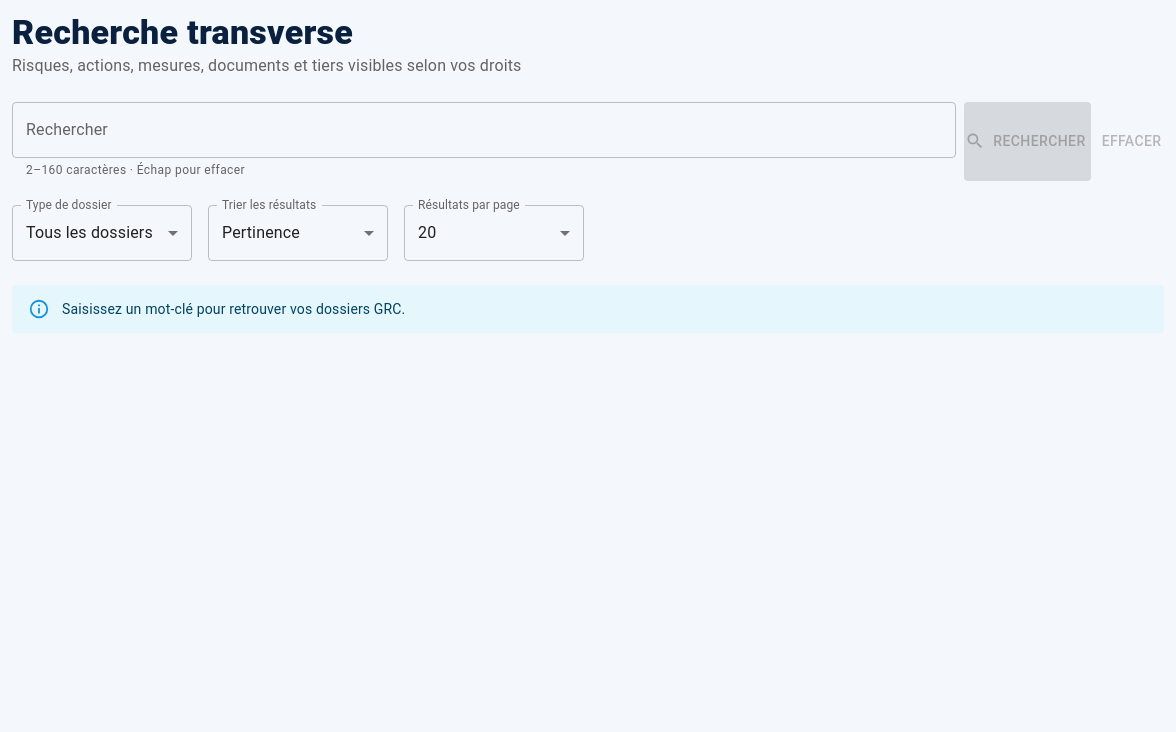
Test: GRC search › does not request an empty query and supports Escape to clear
Check: the dropdown "Tous les dossiers" is shown, box [26, 223, 153, 242]
Check: the text "Saisissez un mot-clé pour retrouver vos dossiers GRC." is shown, box [62, 301, 405, 317]
Step 1. Type "cloud" into the field labelled "Rechercher" → x=484, y=130, box [12, 102, 956, 158]
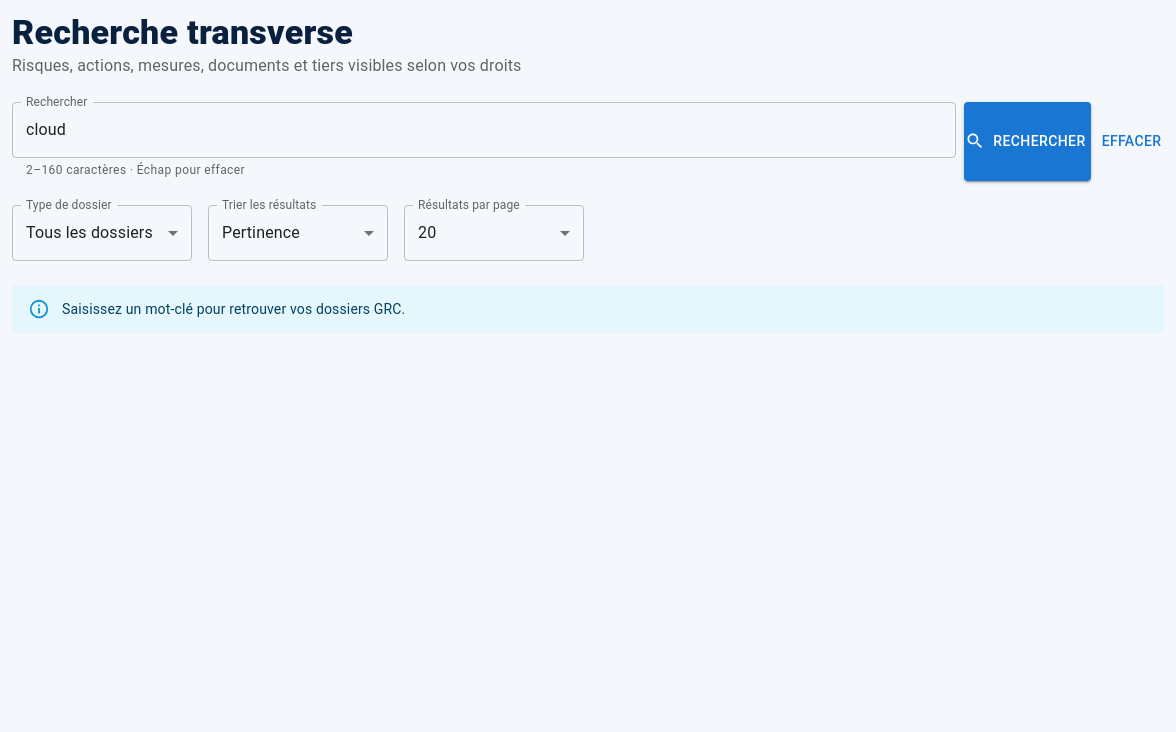
Step 2. Press Escape in the field labelled "Rechercher", box [12, 102, 956, 158]
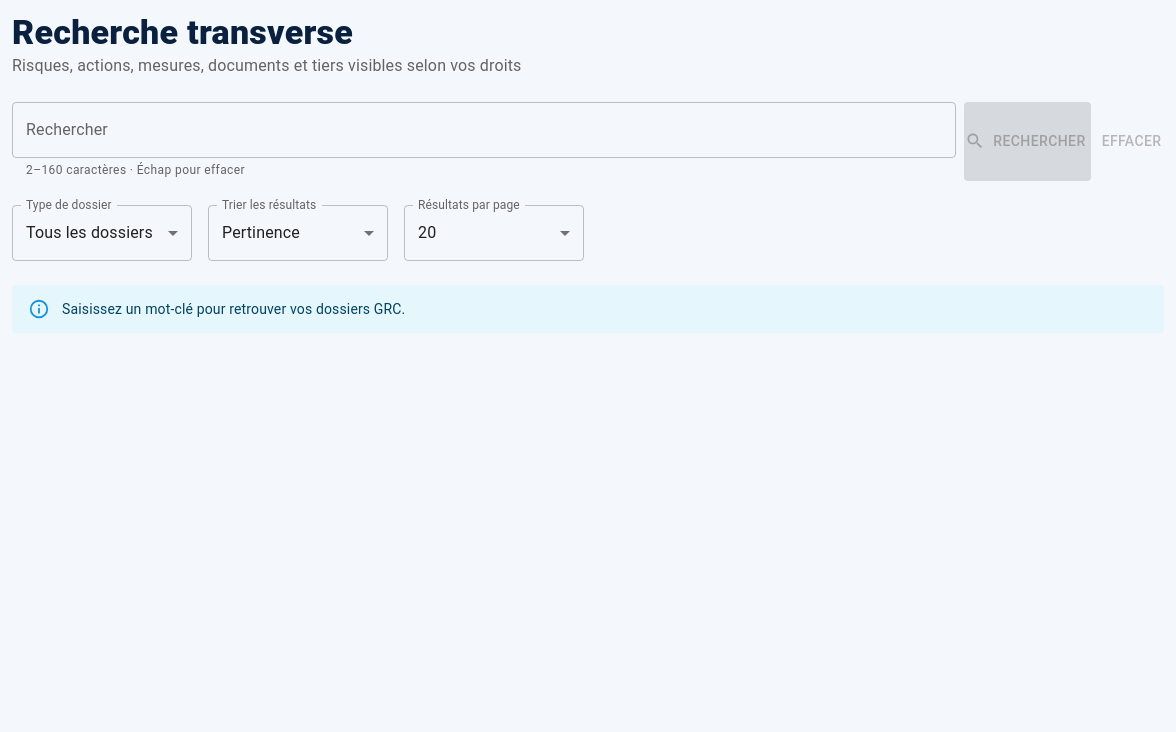
Check: the field labelled "Rechercher" is empty, box [12, 102, 956, 158]
Step 3. Press the mouse on the dropdown named "Type de dossier" → x=89, y=233, box [26, 223, 153, 242]
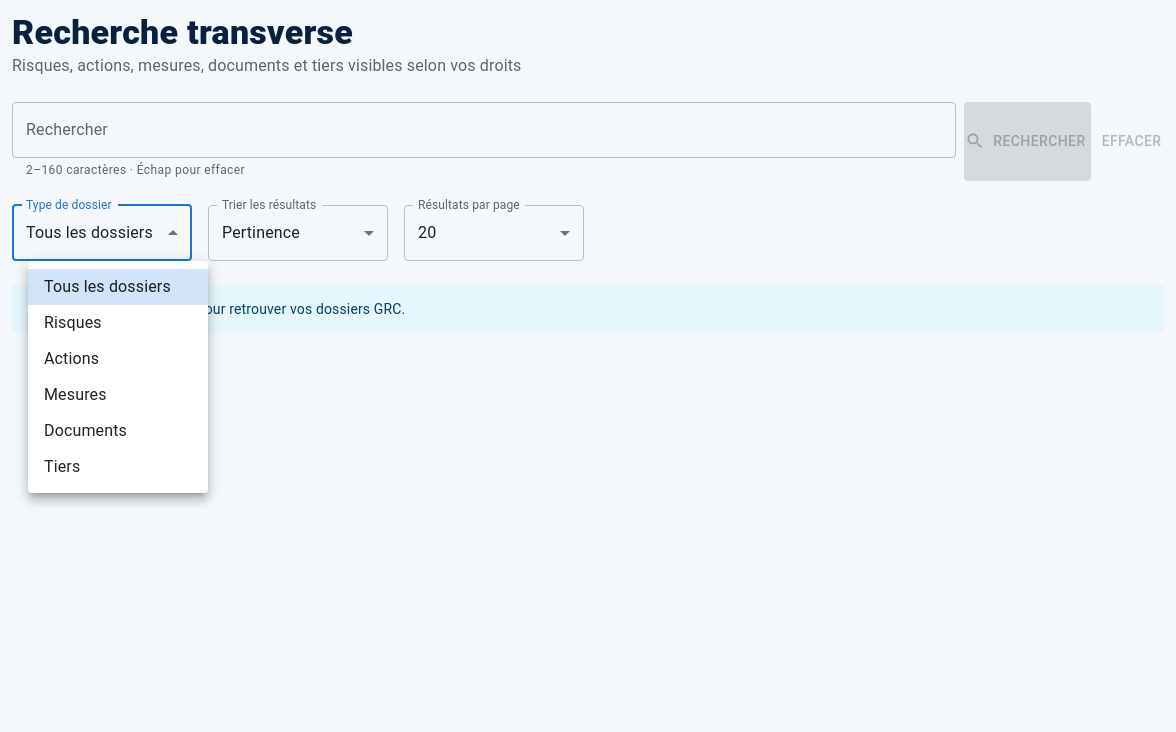
Step 4. Click the option "Risques" → x=73, y=322, box [44, 313, 102, 332]
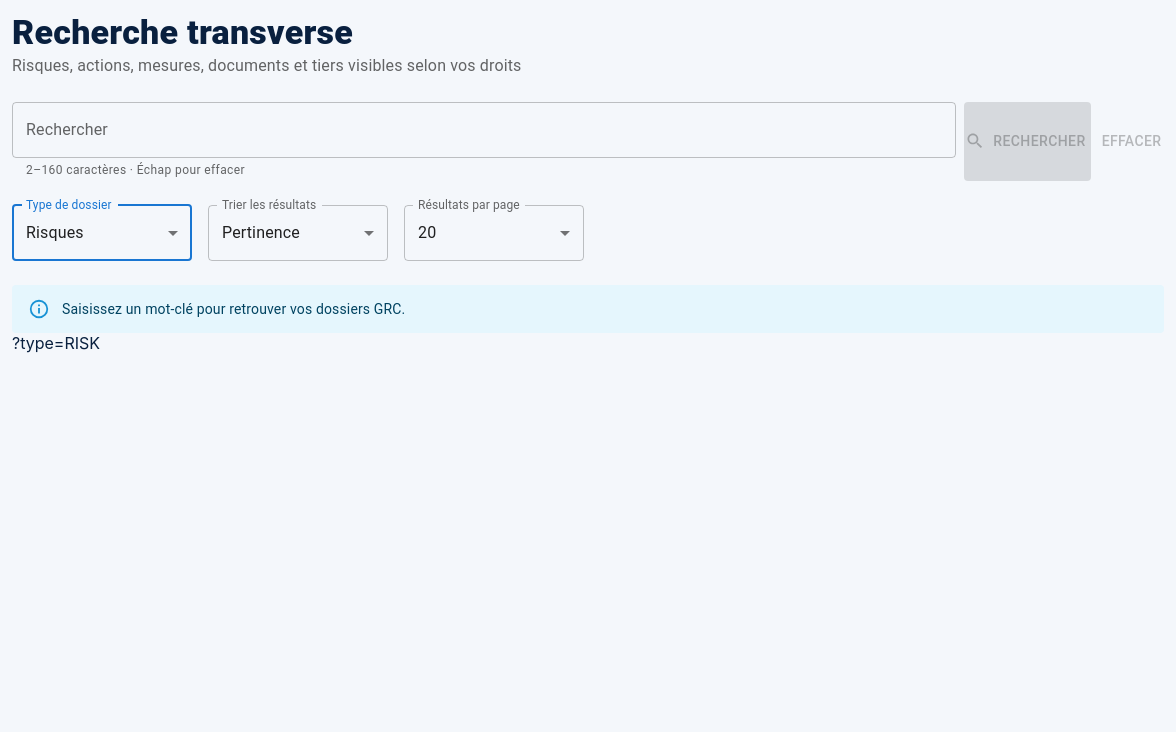
Check: the text with test id "url" shows "type=RISK", box [12, 333, 100, 353]
